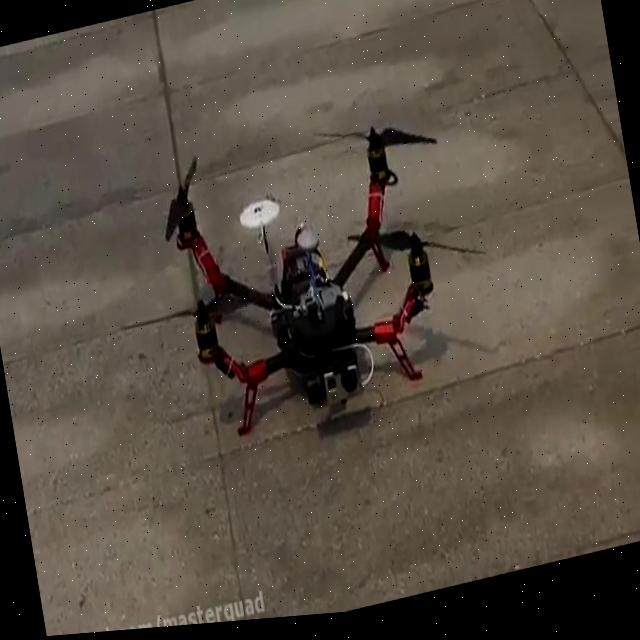drone: (100, 90, 510, 469)
